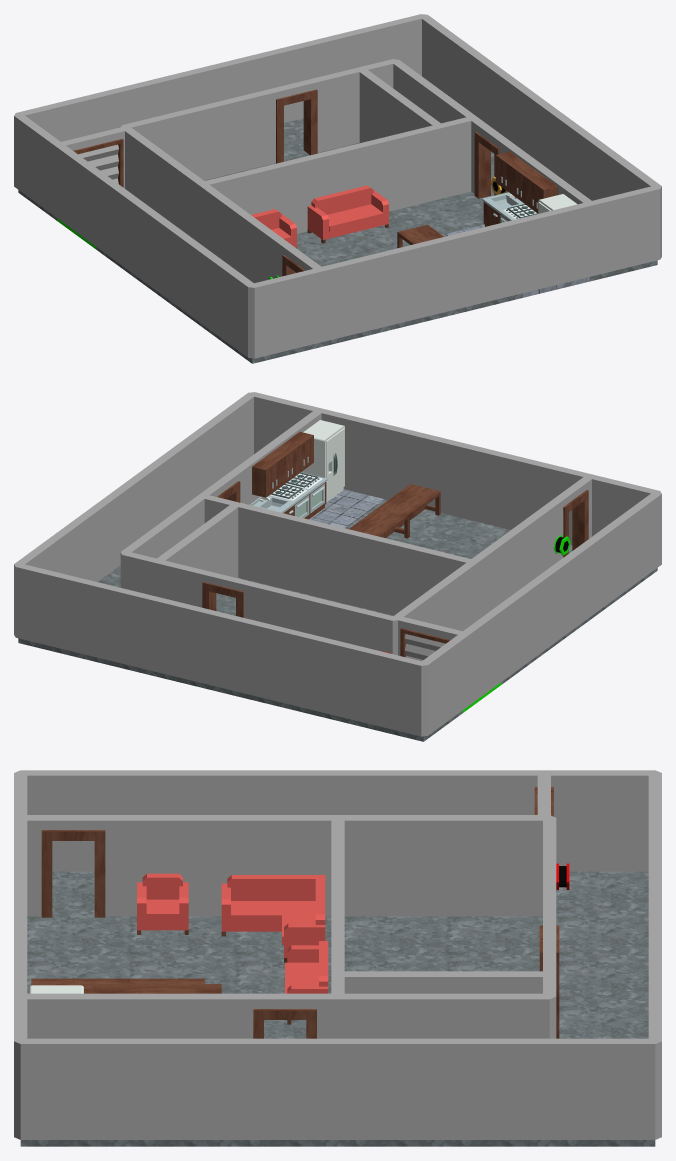
File: Level_1_1_Hallway.fbx
The picture shows the model from 3 angles, top to bottom: view 1: azimuth 30°, elevation 25°; view 2: azimuth 150°, elevation 25°; view 3: azimuth 270°, elevation 25°; orthographic projection. The views are drawn at different scales.
Parts seen in each view (by area): view 1: mergedBlocks; view 2: mergedBlocks; view 3: mergedBlocks.
Part boxes in pixels (x1,y1,x2,y2): mergedBlocks: (14, 14, 661, 363); mergedBlocks: (14, 392, 661, 741); mergedBlocks: (14, 770, 661, 1146).
Size of the model in its own units: 61.25 by 11 by 61.25.
